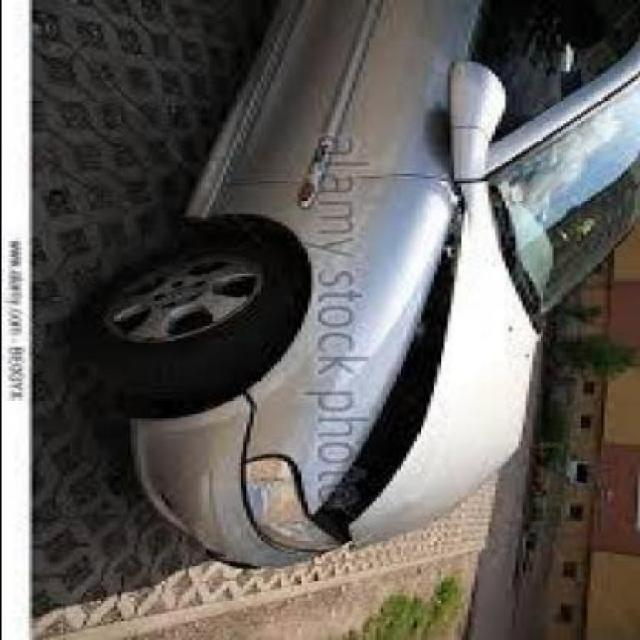damage: (300, 204, 467, 550)
